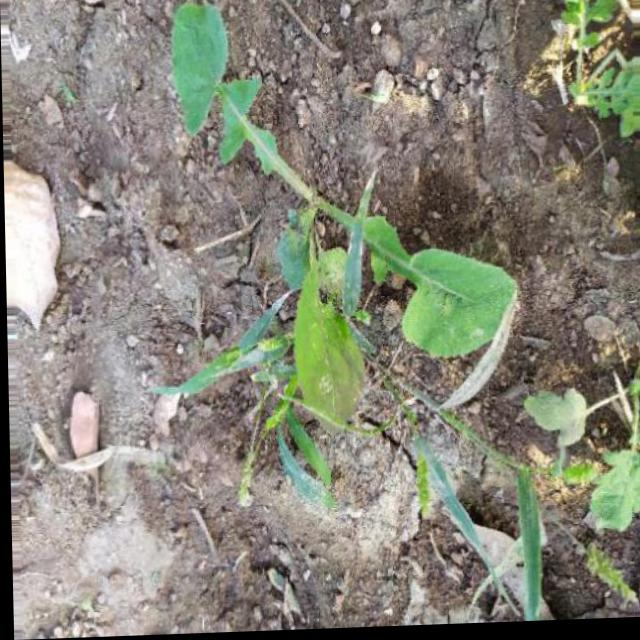weed: (117, 0, 530, 487)
